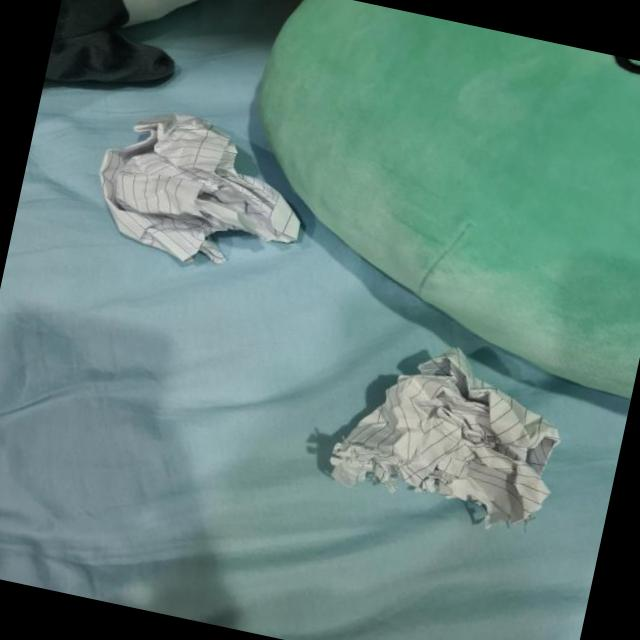cardboard paper: (258, 0, 640, 396), (329, 346, 557, 522), (99, 112, 298, 261)
